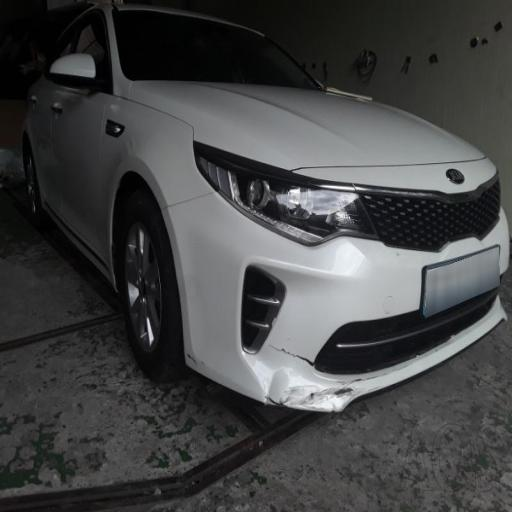broken: (213, 231, 384, 444)
